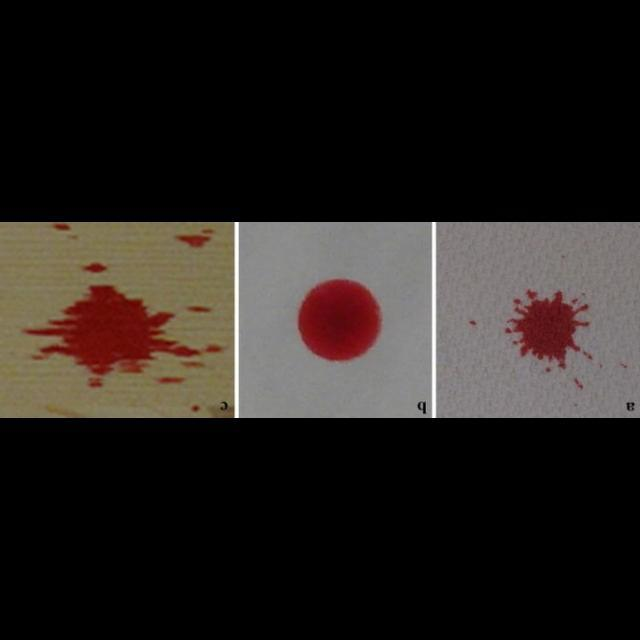blood: (25, 285, 201, 375), (296, 278, 382, 362), (505, 289, 589, 370)
